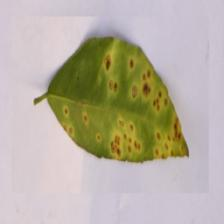canker: (100, 50, 182, 158)
